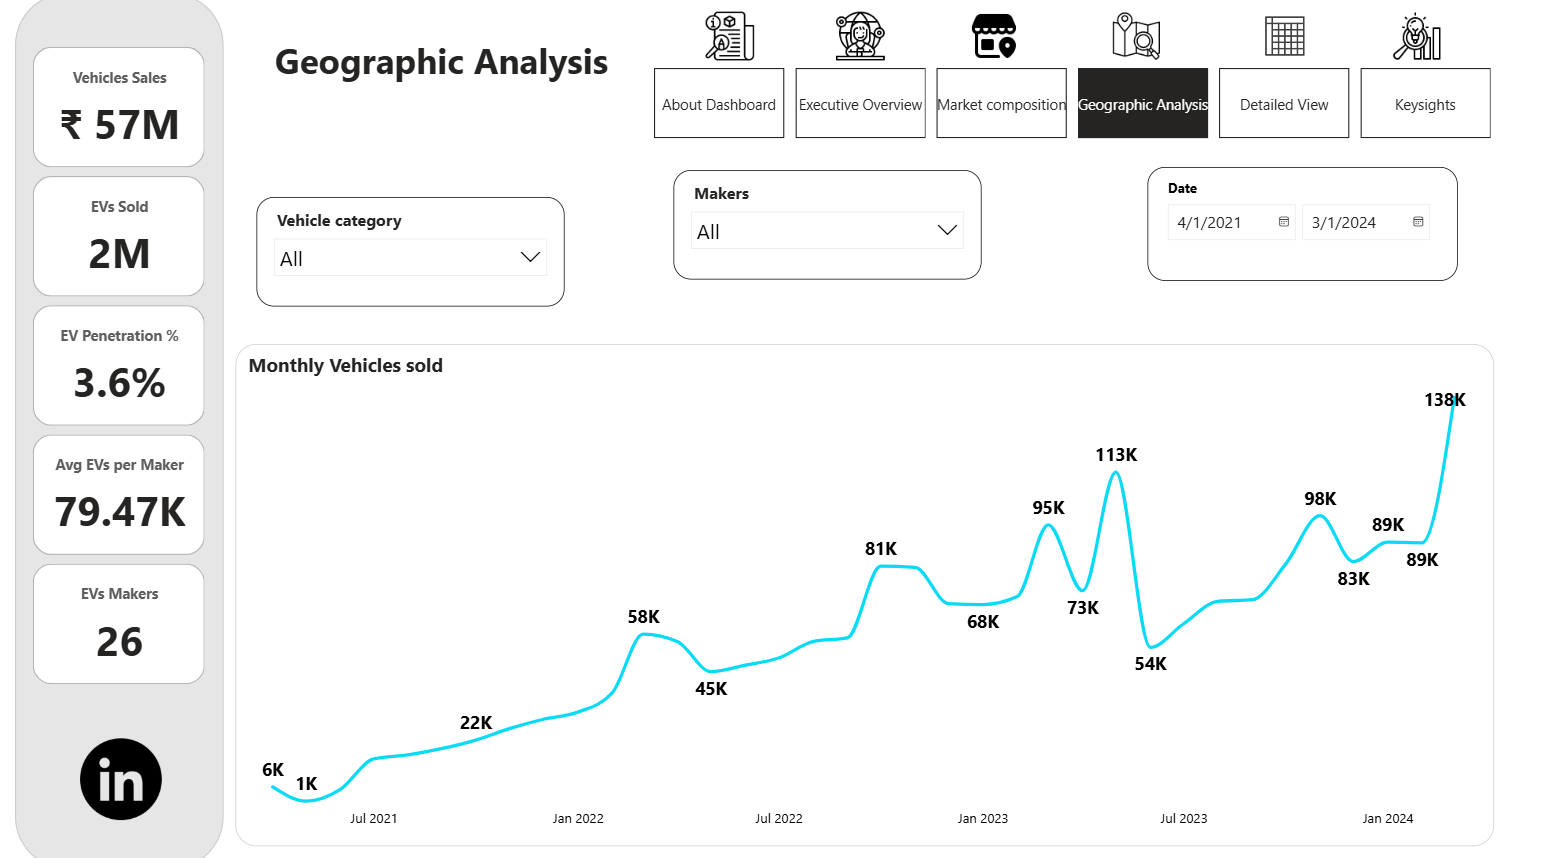

What the dashboard file says about the page in this screenshot:
{"tool":"powerbi","page":{"name":"Geographic Analysis","canvas":[1362,800],"ordinal":3},"visuals":[{"type":"textbox","box":[220.8,34,337.7,67.9],"z":0},{"type":"slicer","fields":{"Values":["dim_date.date"]},"box":[1034,158.5,283,103.8],"z":1000},{"type":"slicer","fields":{"Values":["electric_vehicle_sales_by_makers.vehicle_category"]},"box":[220.8,186.8,281.1,100],"z":2000},{"type":"slicer","fields":{"Values":["electric_vehicle_sales_by_makers.Maker"]},"box":[600.9,162.3,281.1,100],"z":3000},{"type":"lineChart","title":"Monthly Vehicles sold","fields":{"Y":["Sum(electric_vehicle_sales_by_makers.electric_vehicles_sold)"],"Category":["dim_date.date.Variation.Date Hierarchy.Year","dim_date.date.Variation.Date Hierarchy.Month"]},"box":[201.9,320.8,1149.1,458.5],"z":4000},{"type":"shape","box":[0,0,190.6,800],"z":5000},{"type":"image","box":[737.7,11.3,67.9,56.6],"z":6000},{"type":"image","box":[860.4,11.3,67.9,56.6],"z":7000},{"type":"image","box":[990.6,11.3,67.9,56.6],"z":8000},{"type":"image","box":[1126.4,11.3,67.9,56.6],"z":9000},{"type":"image","box":[618.9,11.3,67.9,56.6],"z":10000},{"type":"cardVisual","fields":{"Data":["electric_vehicle_sales_by_state.Vehicles Sold","Sum(electric_vehicle_sales_by_state.electric_vehicles_sold)","electric_vehicle_sales_by_state.EV Penetration %","electric_vehicle_sales_by_makers.Average EVs per Maker","electric_vehicle_sales_by_makers.Distinct Makers"]},"box":[11.3,43.4,167.9,594.3],"z":11000},{"type":"pageNavigator","box":[583,67.9,767.9,64.2],"z":12000},{"type":"image","box":[28.3,675.5,135.8,84.9],"z":13000},{"type":"image","box":[1247.2,11.3,67.9,56.6],"z":14000}]}

Visuals, with their boxes on the page's 1362x800 design canvas (x1, y1, x2, y2). These are canvas units, not pixel positions in the 1555x858 screenshot, which may show the page scaled, cropped or inside an application window:
textbox: [x1=221, y1=34, x2=558, y2=102]
slicer - dim_date.date: [x1=1034, y1=158, x2=1317, y2=262]
slicer - electric_vehicle_sales_by_makers.vehicle_category: [x1=221, y1=187, x2=502, y2=287]
slicer - electric_vehicle_sales_by_makers.Maker: [x1=601, y1=162, x2=882, y2=262]
"Monthly Vehicles sold" lineChart: [x1=202, y1=321, x2=1351, y2=779]
shape: [x1=0, y1=0, x2=191, y2=800]
image: [x1=738, y1=11, x2=806, y2=68]
image: [x1=860, y1=11, x2=928, y2=68]
image: [x1=991, y1=11, x2=1058, y2=68]
image: [x1=1126, y1=11, x2=1194, y2=68]
image: [x1=619, y1=11, x2=687, y2=68]
cardVisual - electric_vehicle_sales_by_state.Vehicles Sold x Sum(electric_vehicle_sales_by_state.electric_vehicles_sold): [x1=11, y1=43, x2=179, y2=638]
pageNavigator: [x1=583, y1=68, x2=1351, y2=132]
image: [x1=28, y1=676, x2=164, y2=760]
image: [x1=1247, y1=11, x2=1315, y2=68]
